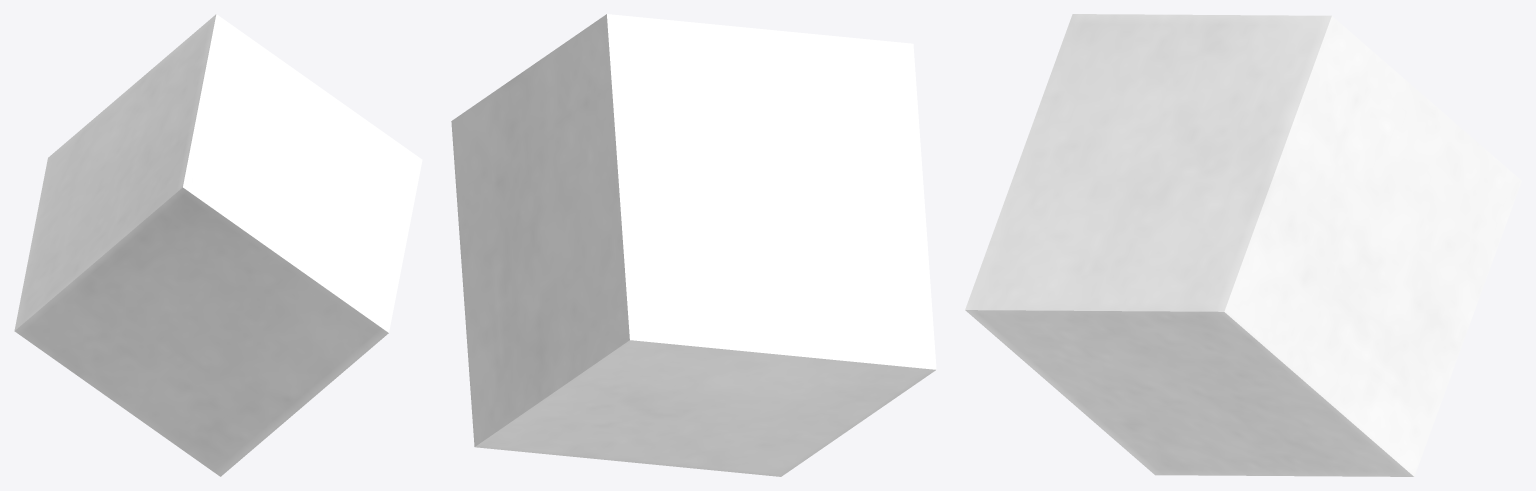
3 renders of one model, left to right at view 1: azimuth 30°, elevation 25°; view 2: azimuth 150°, elevation 25°; view 3: azimuth 270°, elevation 25°, orthographic. The views are drawn at different scales.
Parts seen in each view (by area): view 1: Cube.001; view 2: Cube.001; view 3: Cube.001.
Boxes of the visible parts, x1,y1,x2,y2 form: Cube.001: [14, 14, 422, 476]; Cube.001: [451, 14, 936, 476]; Cube.001: [965, 14, 1521, 476].
Bounding box in the file's own units: 0.6221 × 0.5986 × 0.6043.
1 material, 1 textured.
